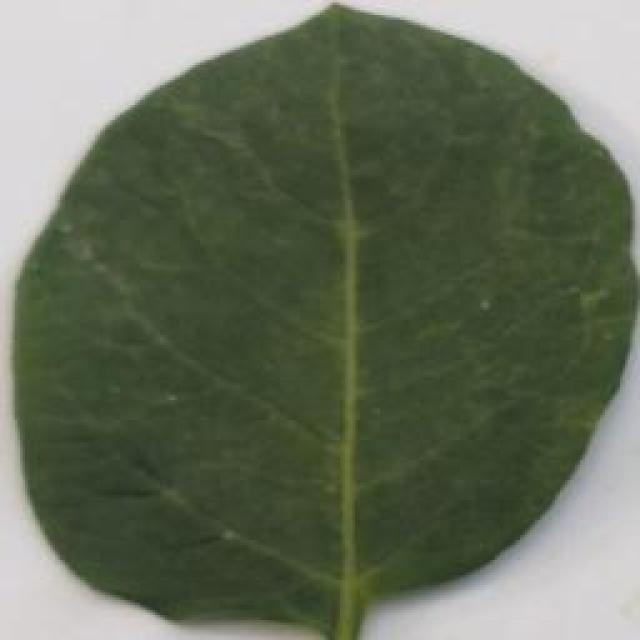Potato_Healthy: (6, 6, 636, 628)
